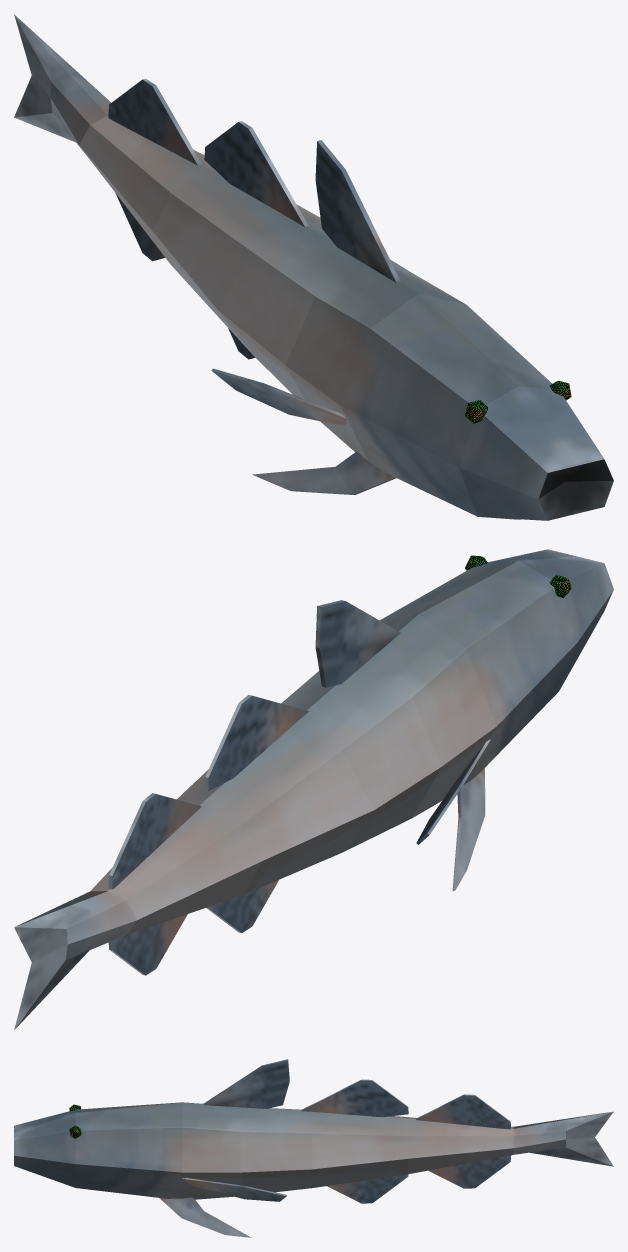
The model's file is Bacalhau do artico.fbx.
3 views of the same model, one above another, from view 1: azimuth 30°, elevation 25°; view 2: azimuth 150°, elevation 25°; view 3: azimuth 270°, elevation 25° (orthographic). The views are drawn at different scales.
Parts seen in each view (by area): view 1: Arctogadus glacialis, Fins, Icosphere; view 2: Arctogadus glacialis, Fins; view 3: Arctogadus glacialis, Fins.
Boxes of the visible parts, left/top/right/bottom form: Arctogadus glacialis: left=14, top=14, right=613, bottom=520; Fins: left=108, top=78, right=400, bottom=494; Icosphere: left=465, top=381, right=571, bottom=423; Arctogadus glacialis: left=14, top=549, right=613, bottom=1030; Fins: left=108, top=600, right=490, bottom=975; Arctogadus glacialis: left=14, top=1102, right=613, bottom=1199; Fins: left=159, top=1059, right=511, bottom=1237.
Size of the model in its own units: 0.2885 by 0.3622 by 1.29.
3 materials, 3 textured.
